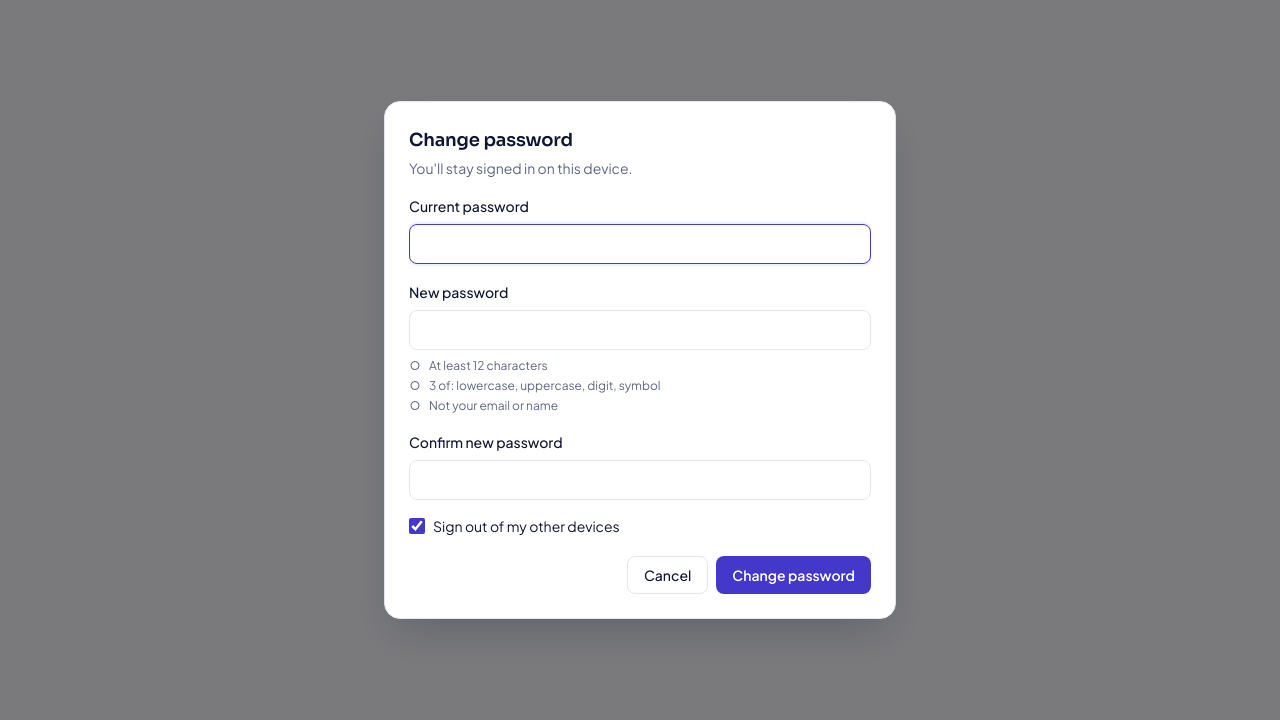
it: ChangePasswordDialog › refuses to reuse the current password
The image size is (1280, 720).
Type "Quiet-River-Lamp-77" into the password field labelled "Current password".
click(640, 244); type("Quiet-River-Lamp-77")  # box [409,224,871,264]
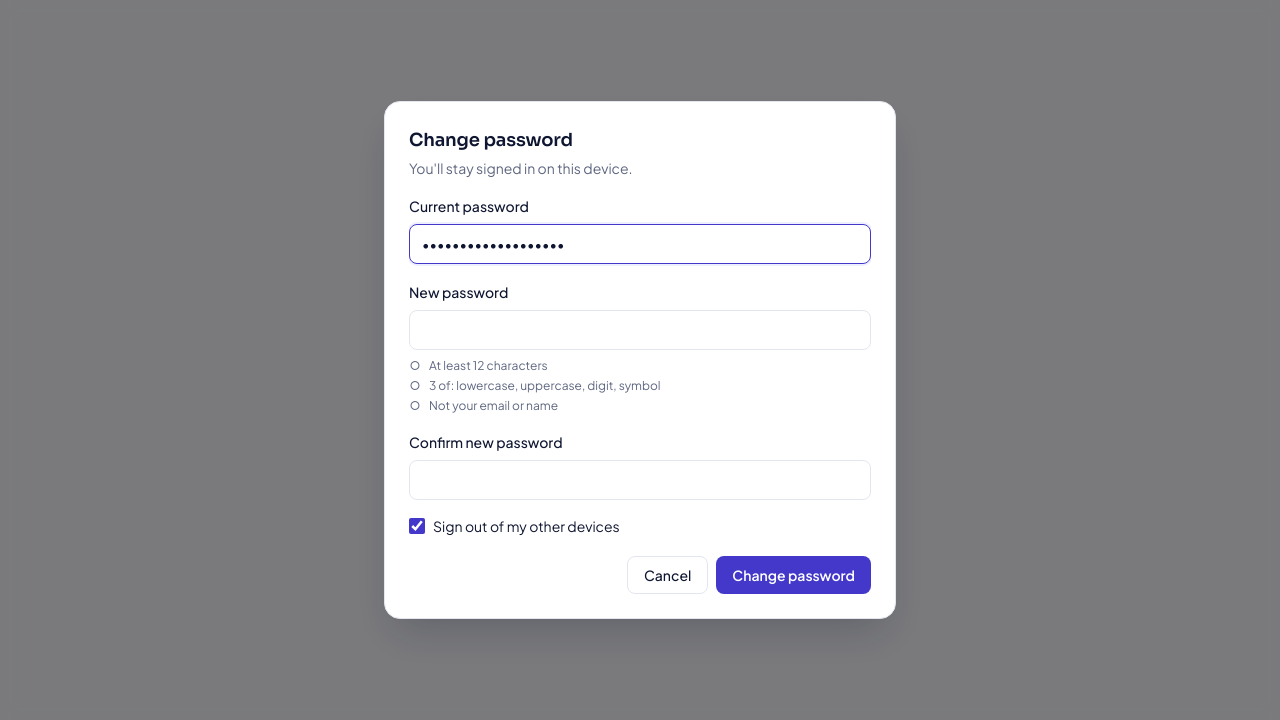
Type "Quiet-River-Lamp-77" into the password field labelled "New password".
click(640, 330); type("Quiet-River-Lamp-77")  # box [409,310,871,350]
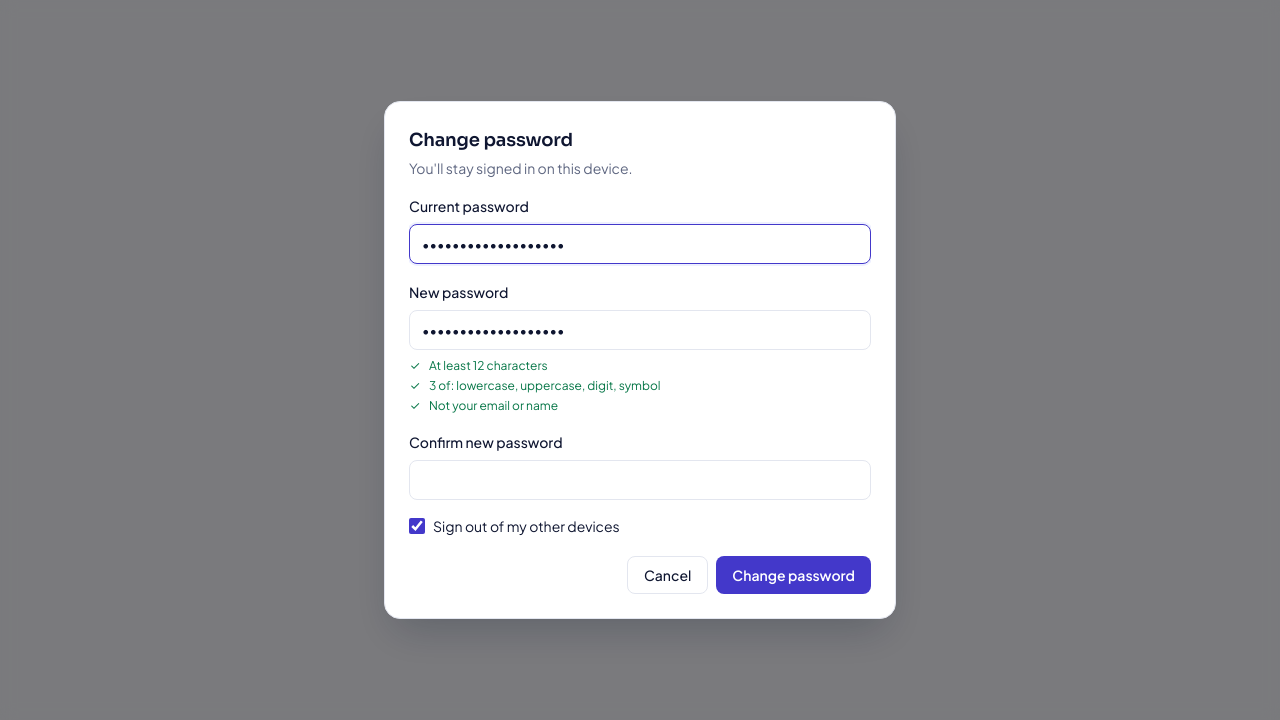
Type "Quiet-River-Lamp-77" into the password field labelled "Confirm new password".
click(640, 480); type("Quiet-River-Lamp-77")  # box [409,460,871,500]
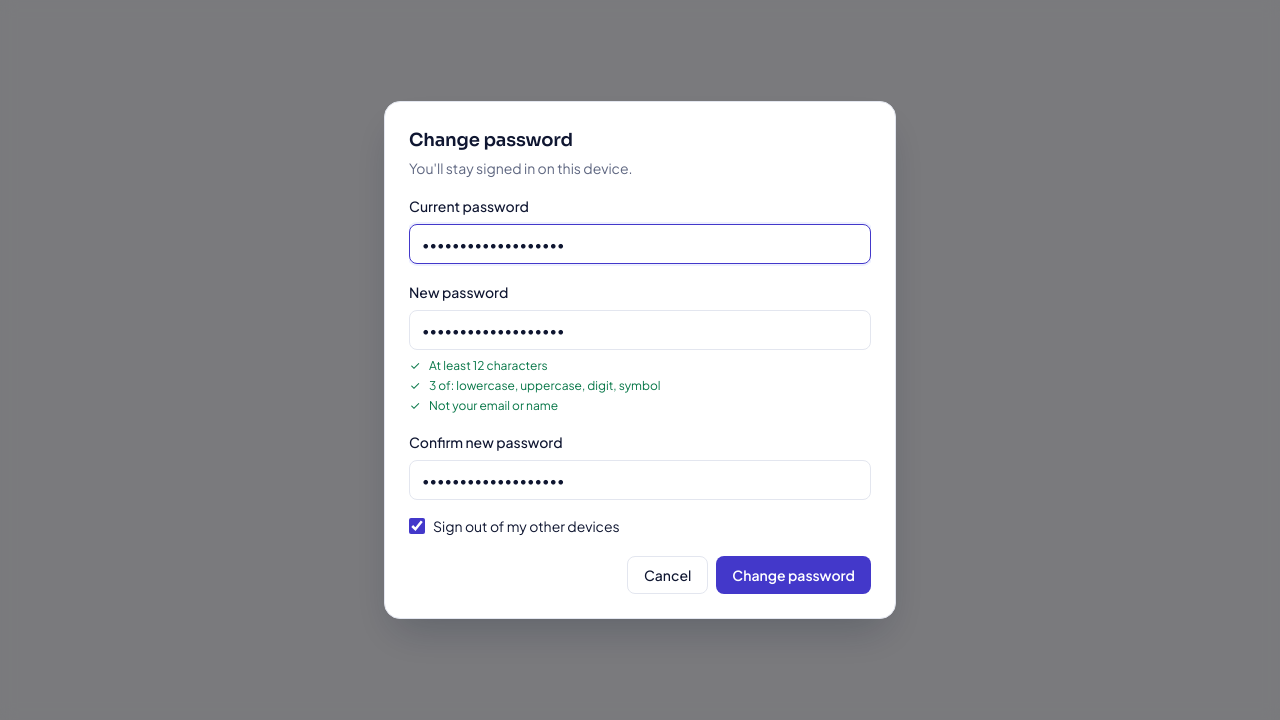
Click the button "Change password".
click(794, 575)  # box [716,556,871,594]
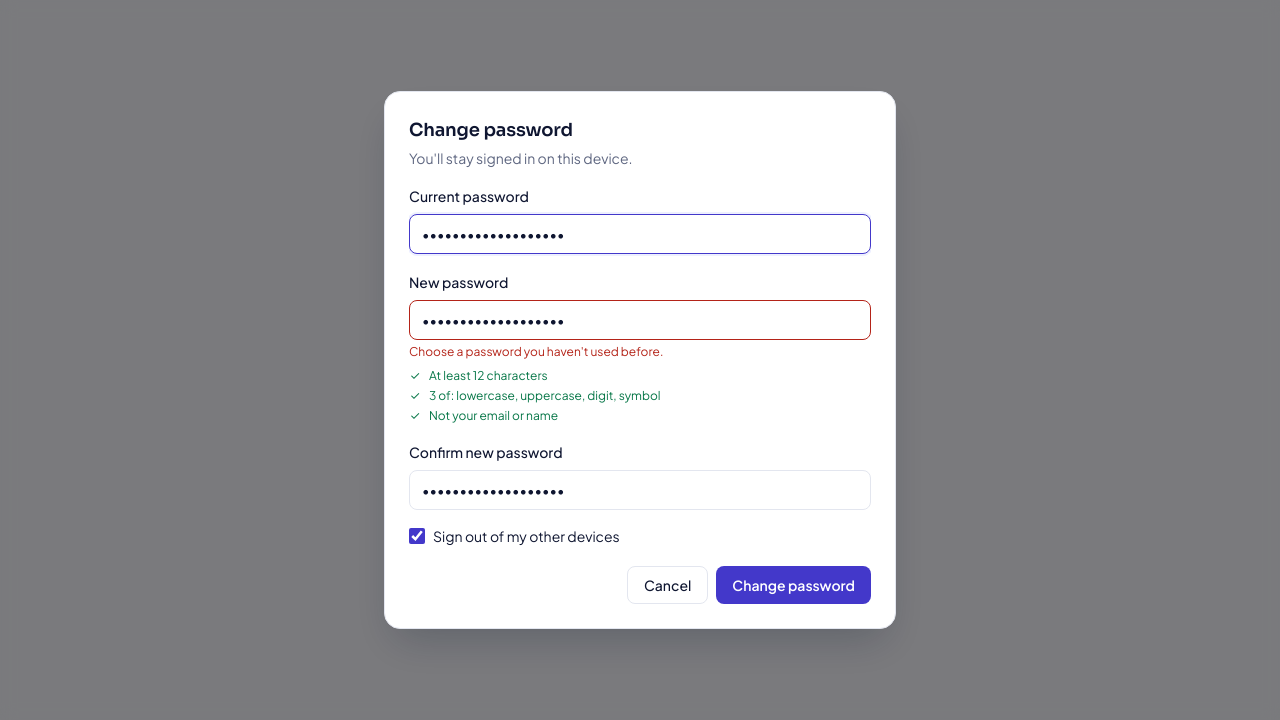
Expected: the text "Choose a password you haven't used before." is shown, [409,344,663,359]
